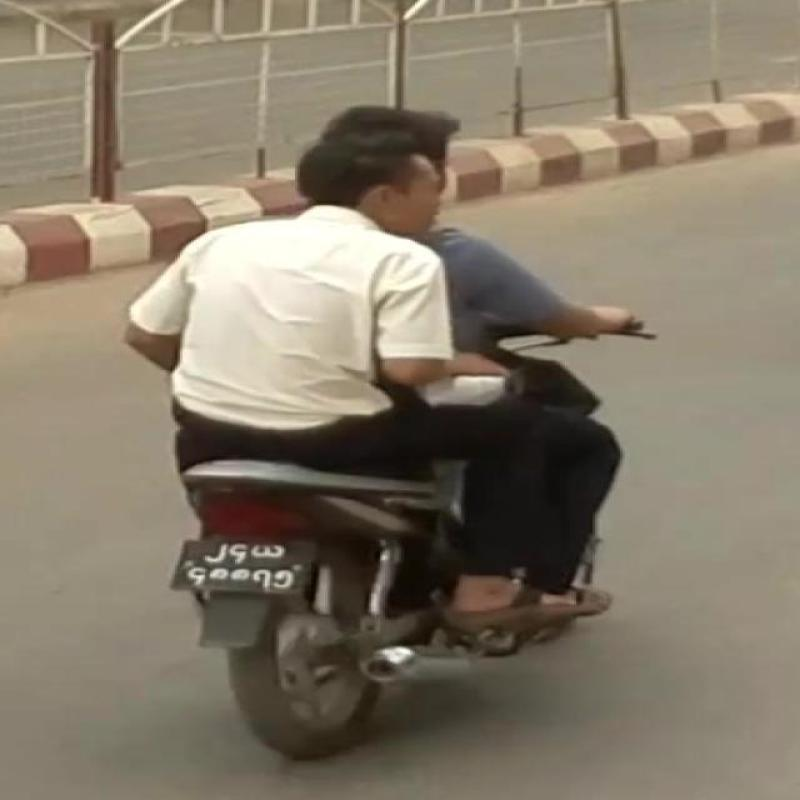nohelmet: (278, 127, 521, 242)
